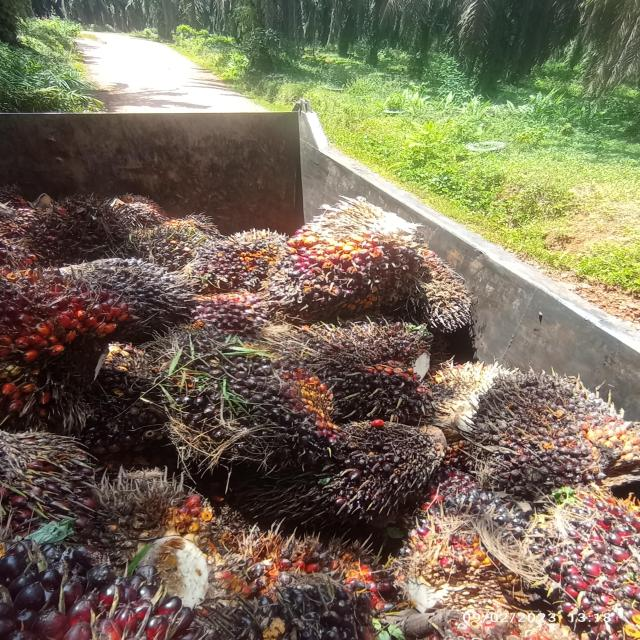fraksi 00: (473, 377, 640, 495), (293, 312, 455, 418), (329, 406, 459, 529), (187, 361, 338, 461)
fraksi 1: (274, 197, 436, 311), (77, 248, 213, 338)
fraksi 4: (9, 260, 124, 366)
